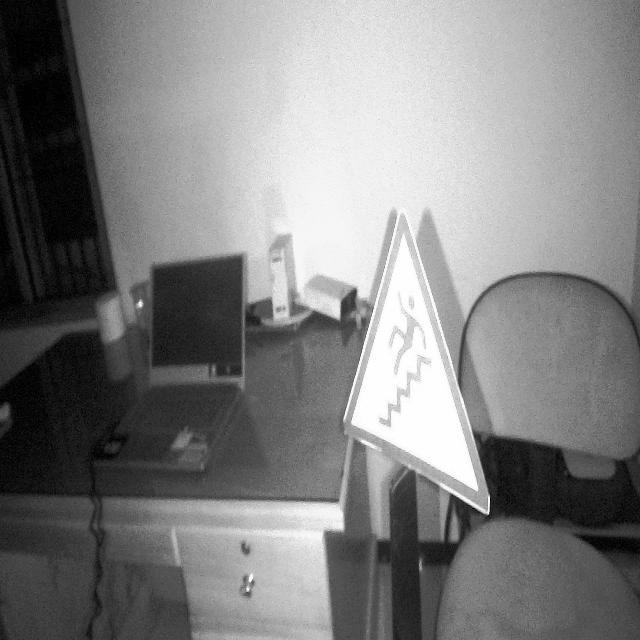Sign: (342, 205, 492, 517)
